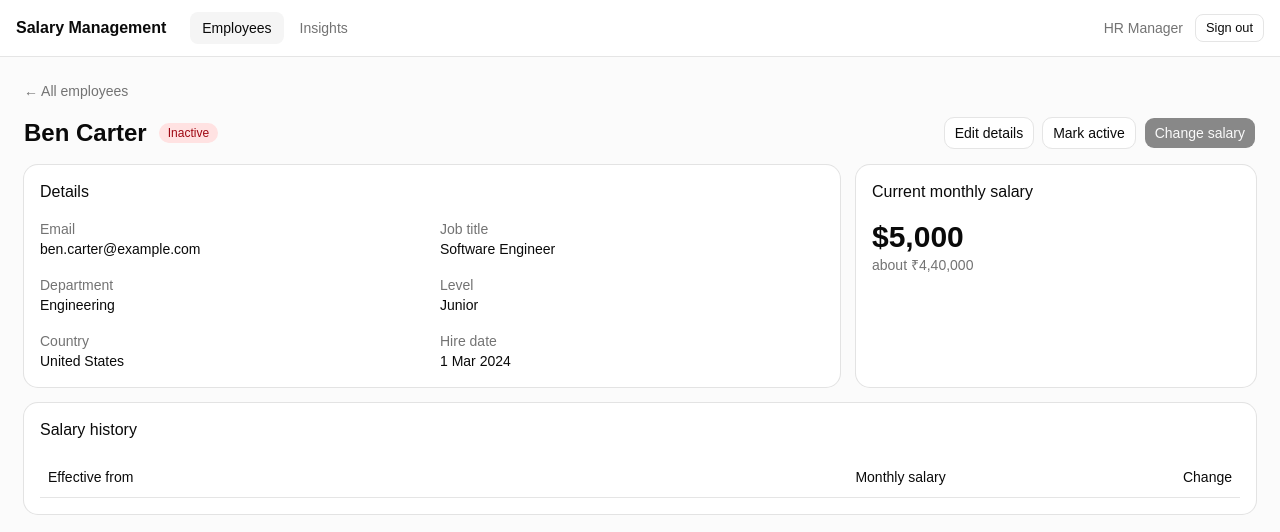
Scenario: employee list › is the home page the logo leads back to
The width and height of the screenshot is (1280, 532).
Expected: the heading "Ben Carter" is shown, [24, 117, 147, 149]
Click the link "Salary Management": (91, 28) [16, 16, 166, 40]
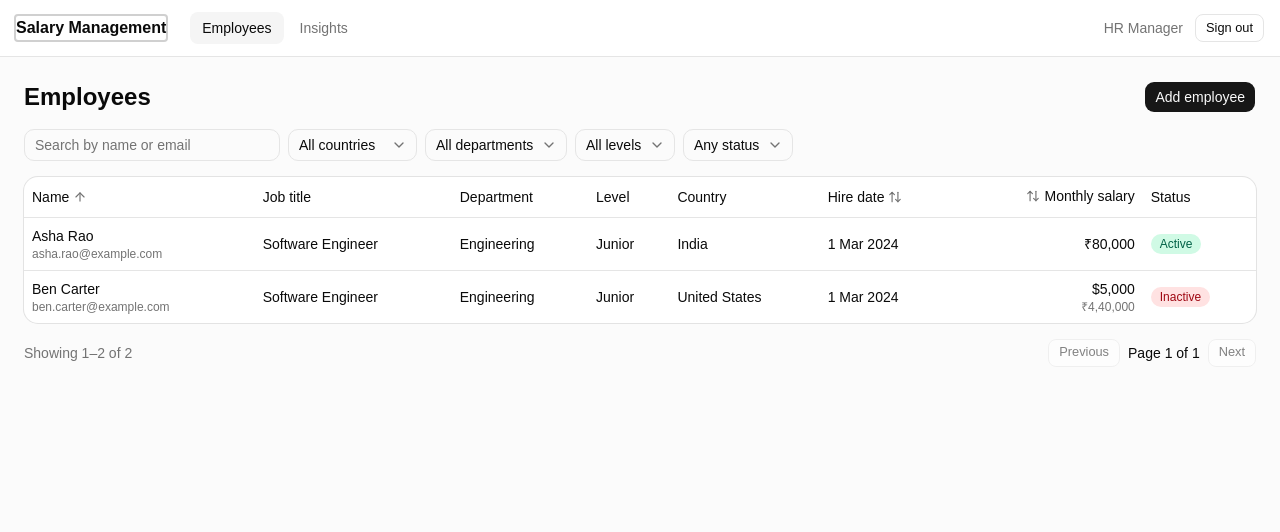
Now the heading "Employees" is shown, box [24, 81, 151, 113]
